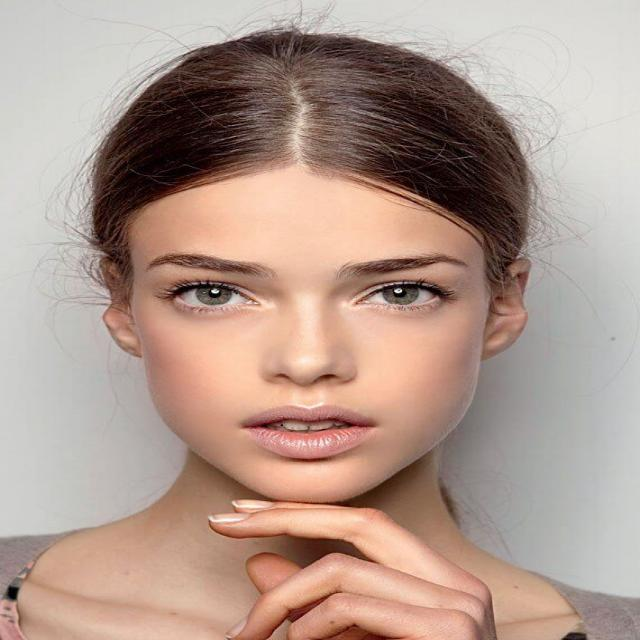earlobe: (114, 327, 143, 358), (481, 329, 509, 360)
eye: (351, 279, 451, 312), (164, 280, 266, 312)
nose: (253, 369, 358, 396)
wholeear: (481, 257, 534, 360), (98, 256, 144, 358)
